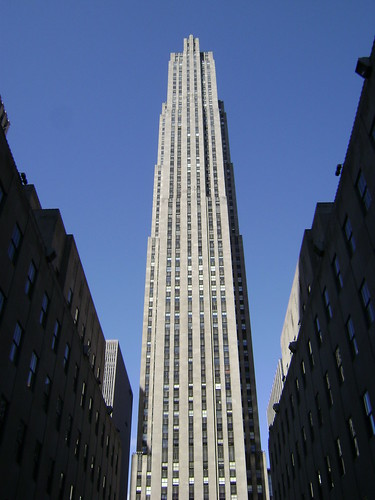low: (127, 31, 275, 500)
